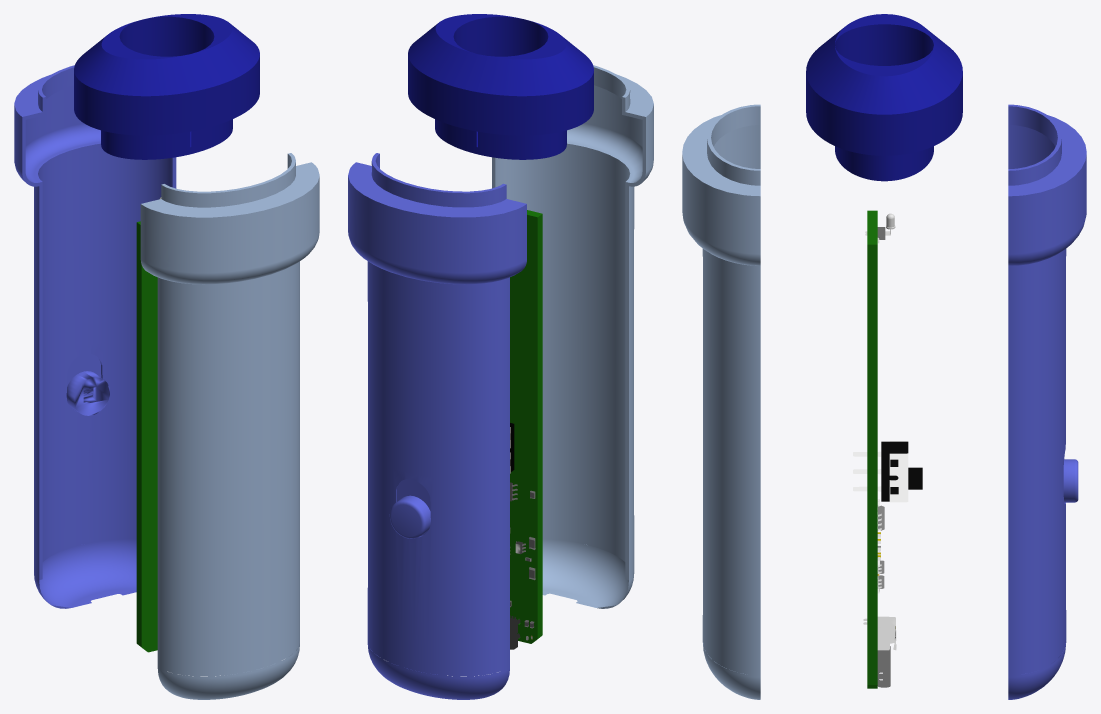
3 views of the same model, side by side, from view 1: azimuth 30°, elevation 25°; view 2: azimuth 150°, elevation 25°; view 3: azimuth 270°, elevation 25° (orthographic). The views are drawn at different scales.
Parts seen in each view (by area): view 1: FACE_ARRIERE, FACE_AVANT, CHAPEAU_LOUPE, OBJ_PCB_PC_main, BOUTON; view 2: FACE_AVANT, FACE_ARRIERE, CHAPEAU_LOUPE, OBJ_PCB_PC_main, BOUTON; view 3: FACE_ARRIERE, FACE_AVANT, CHAPEAU_LOUPE, OBJ_PCB_PC_main, OBJ_PCB_PC_main.044, BOUTON, OBJ_PCB_PC_main.045.
Part boxes in pixels (<box>): FACE_ARRIERE: <box>140,153,319,699</box>; FACE_AVANT: <box>14,65,176,608</box>; CHAPEAU_LOUPE: <box>74,14,259,159</box>; OBJ_PCB_PC_main: <box>136,221,157,652</box>; BOUTON: <box>66,353,109,415</box>; FACE_AVANT: <box>348,153,526,699</box>; FACE_ARRIERE: <box>492,65,653,608</box>; CHAPEAU_LOUPE: <box>408,14,593,159</box>; OBJ_PCB_PC_main: <box>510,210,542,643</box>; BOUTON: <box>389,479,430,538</box>; FACE_ARRIERE: <box>682,104,760,699</box>; FACE_AVANT: <box>1008,104,1086,699</box>; CHAPEAU_LOUPE: <box>806,14,962,181</box>; OBJ_PCB_PC_main: <box>867,210,877,688</box>; OBJ_PCB_PC_main.044: <box>853,441,922,502</box>; BOUTON: <box>1063,459,1078,502</box>; OBJ_PCB_PC_main.045: <box>863,616,896,650</box>.
Bounding box in the file's own units: 5.01 × 16.97 × 9.81.
